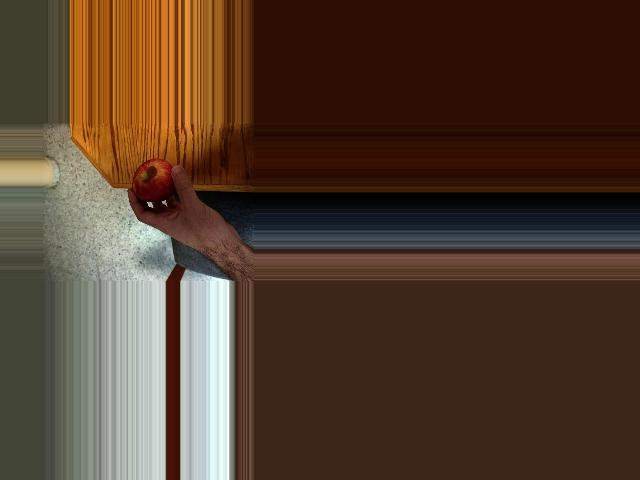apple: (129, 157, 181, 203)
